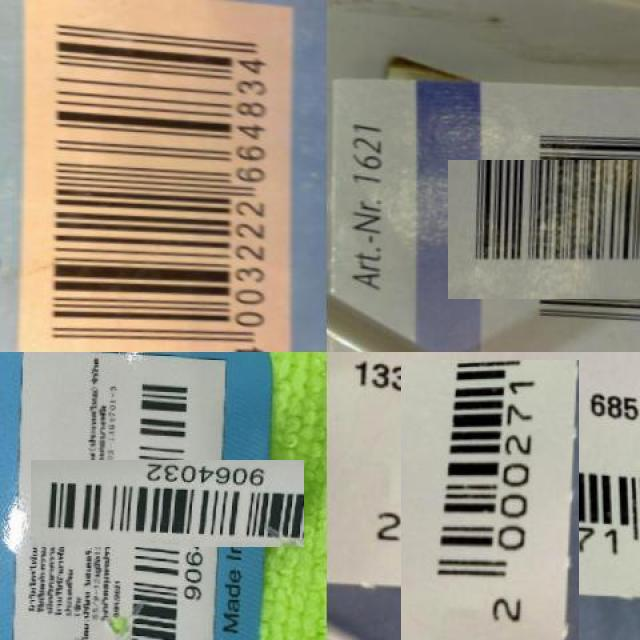Barcode: (19, 0, 293, 352), (370, 391, 610, 629), (77, 413, 257, 594), (474, 134, 640, 326)
